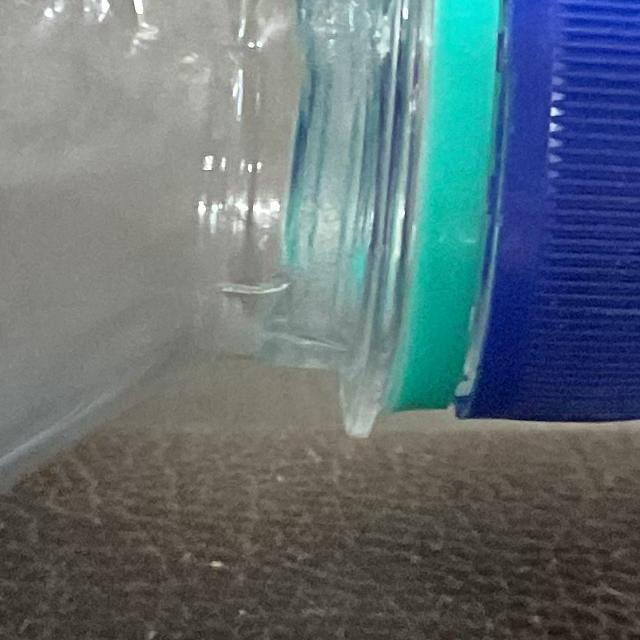Good-cap-Df0S: (399, 0, 640, 451)
